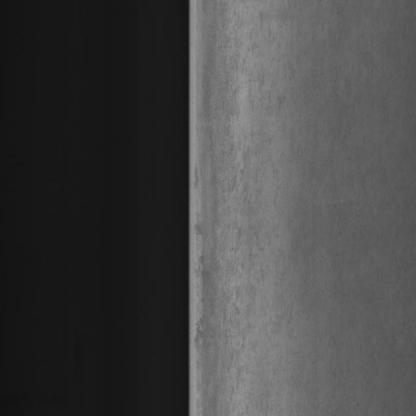silk_spot: (213, 41, 273, 376)
